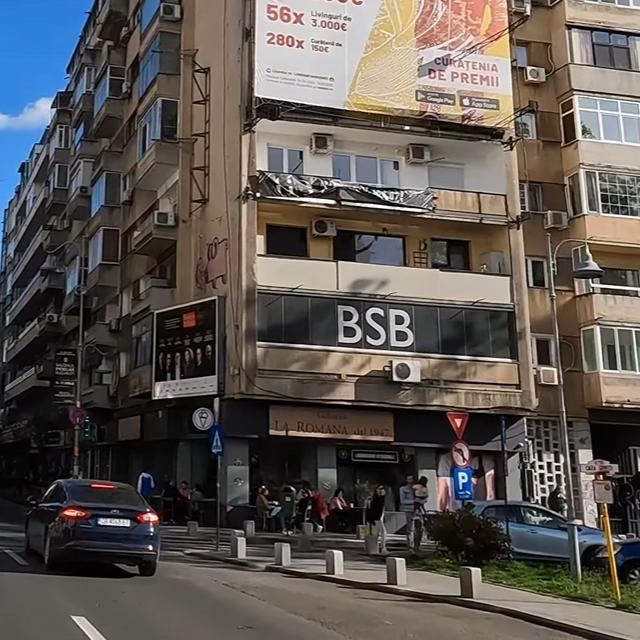prio_give_way: (445, 410, 470, 441)
